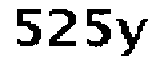2: (44, 6, 79, 50)
5: (82, 6, 113, 53), (13, 5, 43, 51)
y: (115, 14, 149, 60)
